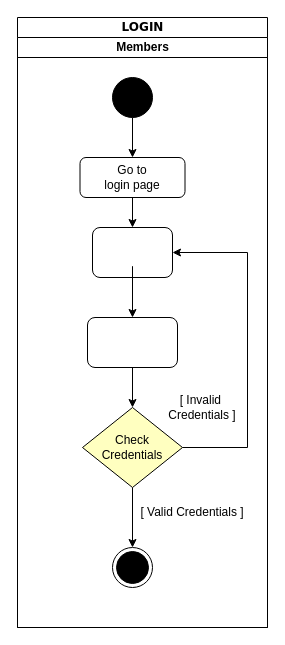
Some shapes in this 285 by 645 pixel diagram are drawn without their labels. The shapes that lost their labels are listed below. From the top down, each one's centre as x and y in pixels, then its label:
At point 132,252: "Enter Credentials".
At point 132,342: "Click on ( Keep me looged in )".
